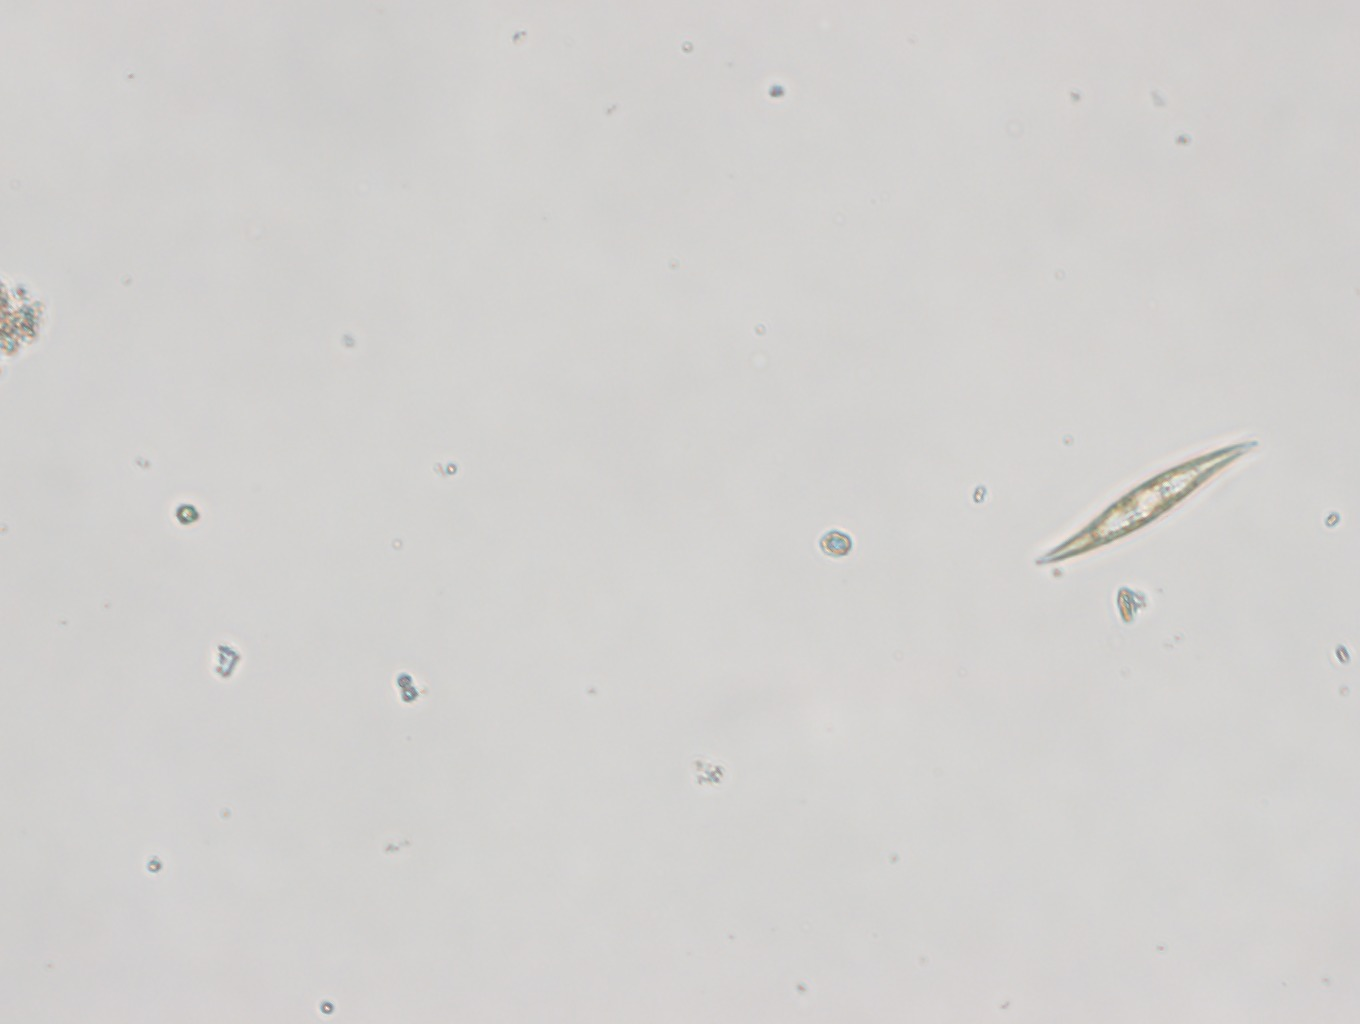pleurosigma pelagicum: (1026, 435, 1264, 566)
